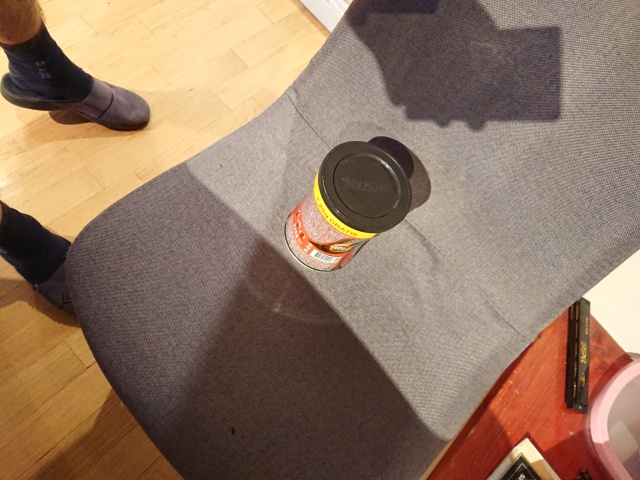Nescafe Classic 225g: (280, 138, 415, 276)
